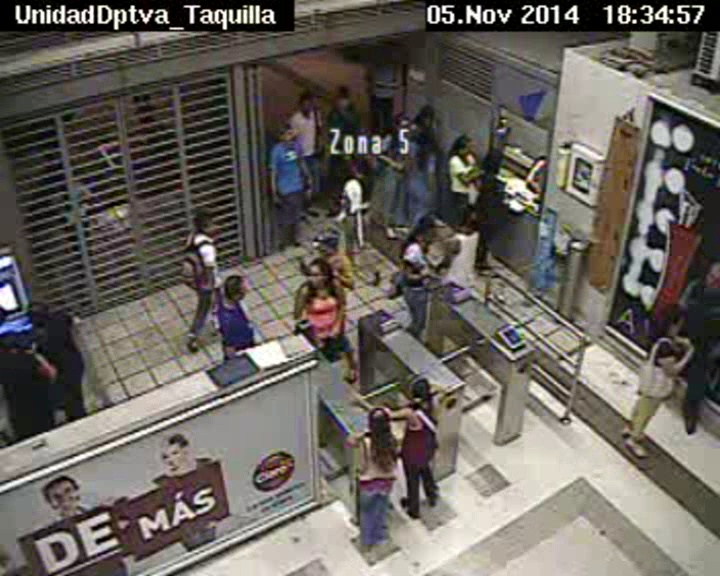person: (302, 256, 333, 292), (660, 305, 686, 337), (367, 407, 393, 435), (410, 379, 436, 407), (223, 274, 249, 301), (314, 231, 341, 257), (27, 296, 52, 323), (4, 326, 27, 354), (413, 214, 437, 239), (417, 123, 439, 149), (193, 206, 215, 231), (452, 134, 474, 158), (481, 147, 503, 171), (456, 206, 477, 229), (275, 122, 295, 144), (700, 267, 720, 289), (295, 92, 315, 113), (332, 85, 351, 106), (392, 114, 411, 135), (416, 104, 435, 123), (346, 159, 364, 178), (375, 45, 394, 63)
